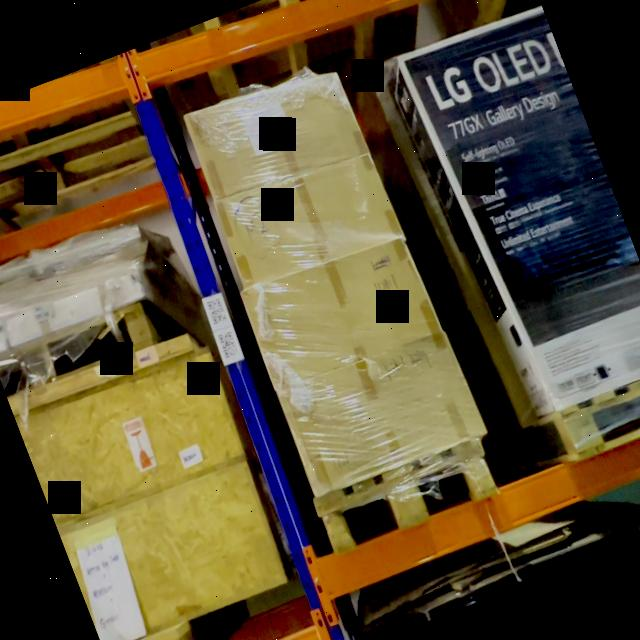box: (276, 329, 484, 496), (240, 236, 436, 390), (216, 154, 398, 288), (190, 73, 361, 198)
